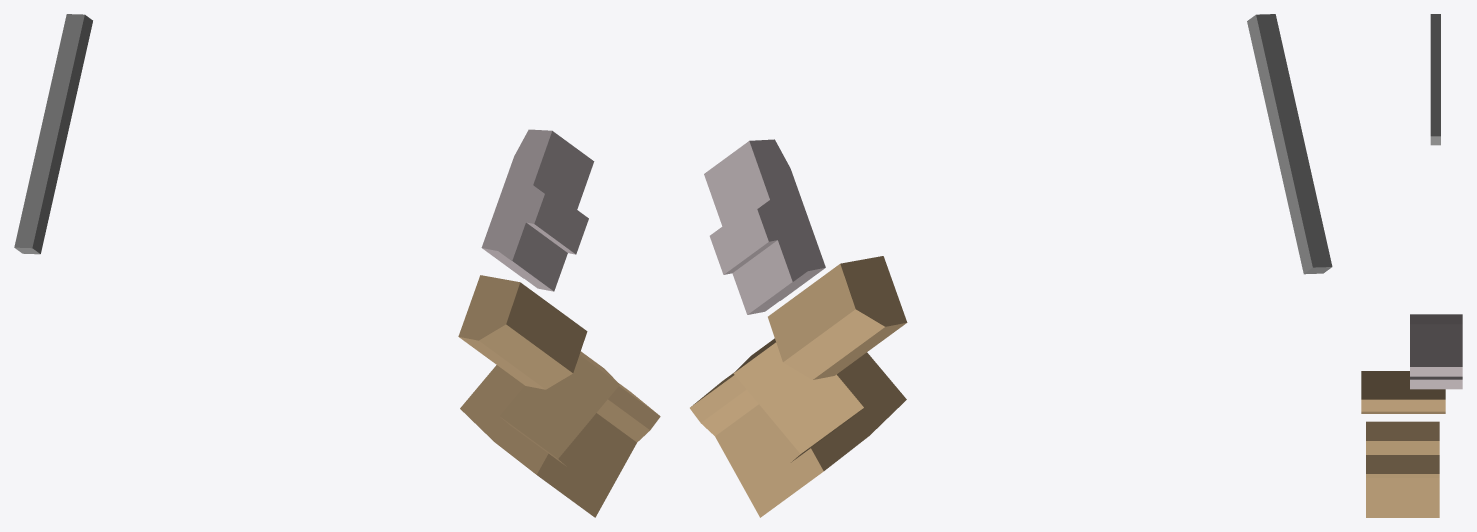
3 renders of one model, left to right at view 1: azimuth 30°, elevation 25°; view 2: azimuth 150°, elevation 25°; view 3: azimuth 270°, elevation 25°, orthographic. The views are drawn at different scales.
Parts seen in each view (by area): view 1: 0_3_0_1_1_0_2; view 2: 0_3_0_1_1_0_2; view 3: 0_3_0_1_1_0_2.
Boxes of the visible parts, x1,y1,x2,y2 form: 0_3_0_1_1_0_2: (14, 14, 660, 517); 0_3_0_1_1_0_2: (690, 14, 1332, 517); 0_3_0_1_1_0_2: (1361, 14, 1462, 517).
Bounding box in the file's own units: 121 × 113 × 28.8.
